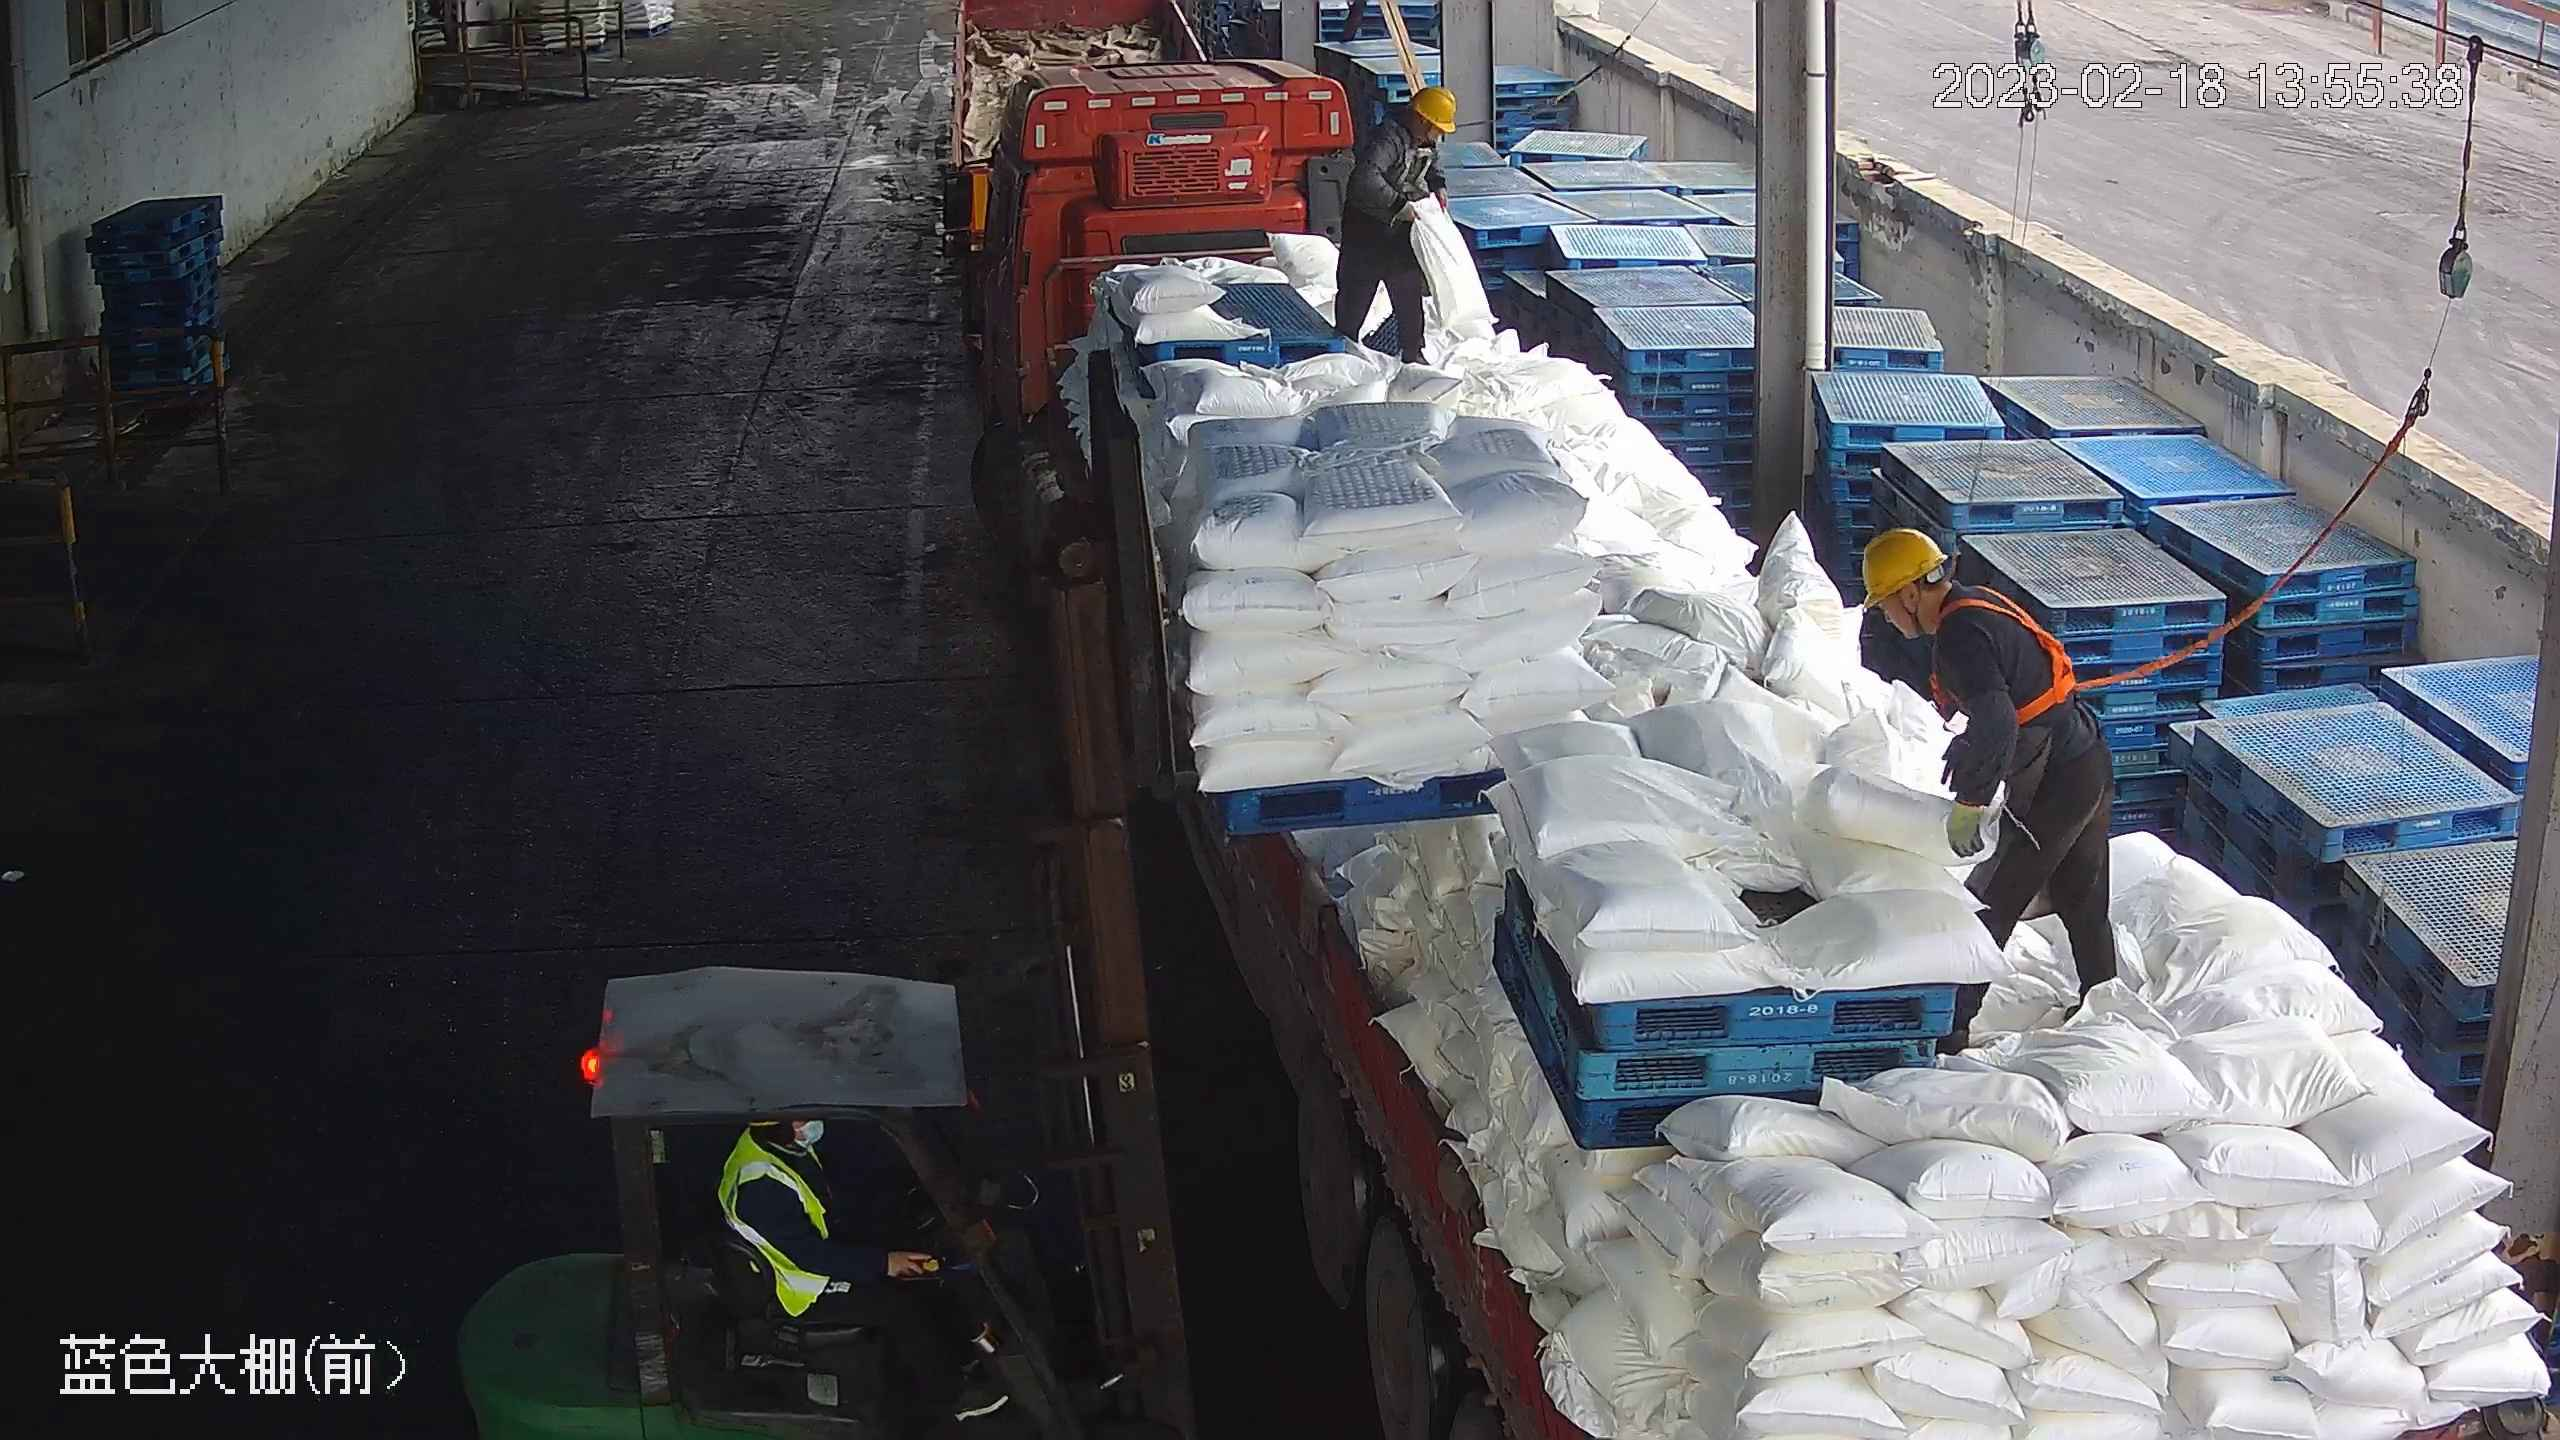belt: (1941, 584, 2095, 728), (1390, 115, 1443, 180)
head: (1855, 524, 2043, 673), (1348, 86, 1460, 171)
helmet: (1856, 525, 1947, 607), (1411, 85, 1458, 136)
people: (1853, 523, 2126, 1046), (720, 1109, 1006, 1408), (1329, 84, 1463, 364)
truck: (974, 53, 2558, 1440)
